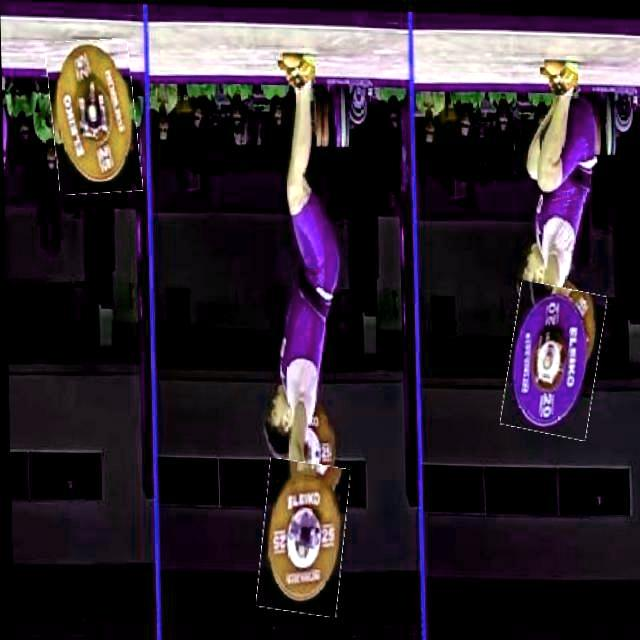barbell: (502, 280, 602, 435), (49, 37, 140, 196), (256, 459, 347, 615)
